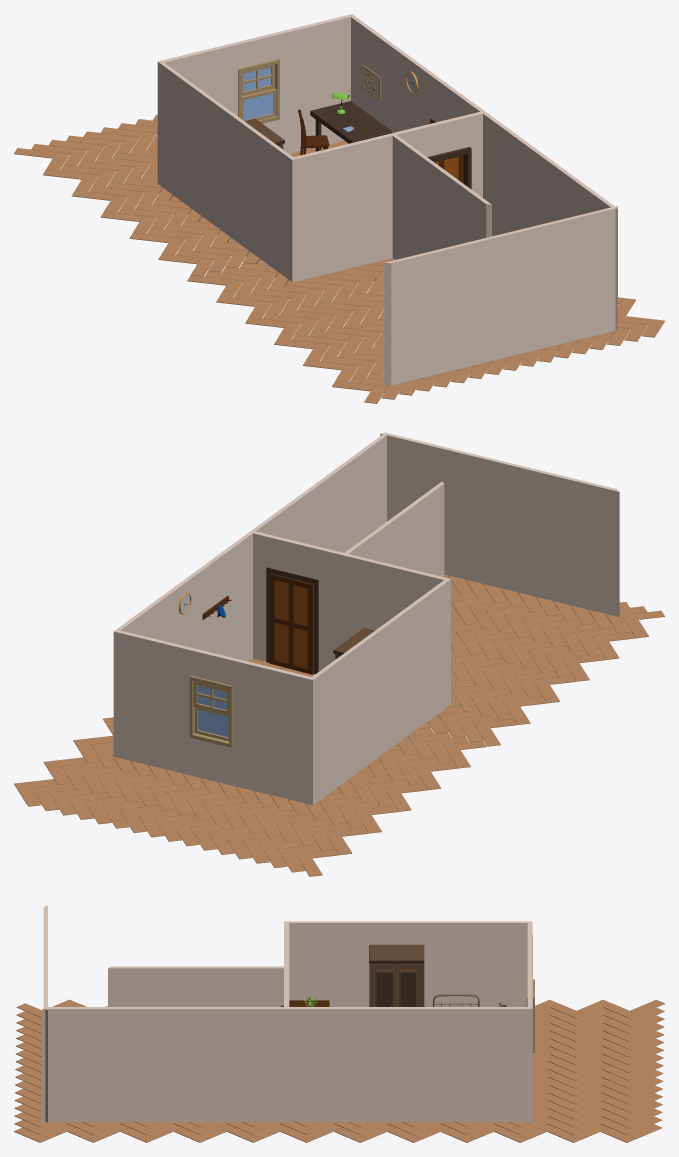
Rendered from girissahnesi2.fbx.
3 renders of one model, top to bottom at view 1: azimuth 30°, elevation 25°; view 2: azimuth 150°, elevation 25°; view 3: azimuth 270°, elevation 25°, orthographic. The views are drawn at different scales.
Visible parts, largest first — view 1: Cube.012, Cube.009, Cube.005, Cube.004, Cube.002, Cube.006, Cube.007, Cube.003, Window.001, Cube.013, Cube.027; view 2: Cube.012, Cube.009, Cube.002, Cube.005, Cube.004, Cube.003, Cube.006, Cube.007, Cube.026, Window.001, Cube.027; view 3: Cube.012, Cube.006, Cube.003, Cube.005, Cube.007, Cube.010, Cube.009, dolapsag, dolapsol, Cube.002, Cube.004.
Part boxes in pixels (box(x1,y1,x2,y2)): Cube.012: box(14, 115, 664, 403); Cube.009: box(384, 206, 617, 392); Cube.005: box(157, 61, 293, 285); Cube.004: box(292, 111, 485, 282); Cube.002: box(158, 14, 351, 153); Cube.006: box(483, 112, 617, 330); Cube.007: box(392, 135, 491, 259); Cube.003: box(351, 14, 486, 132); Window.001: box(238, 59, 279, 123); Cube.013: box(310, 101, 392, 151); Cube.027: box(427, 147, 471, 189); Cube.012: box(14, 574, 664, 876); Cube.009: box(380, 433, 619, 621); Cube.002: box(113, 630, 312, 811); Cube.005: box(312, 579, 450, 805); Cube.004: box(252, 530, 449, 671); Cube.003: box(114, 530, 252, 661); Cube.006: box(252, 432, 386, 552); Cube.007: box(344, 481, 444, 576); Cube.026: box(269, 573, 314, 674); Window.001: box(189, 676, 232, 747); Cube.027: box(266, 567, 318, 673); Cube.012: box(14, 999, 664, 1142); Cube.006: box(42, 1007, 290, 1121); Cube.003: box(284, 1007, 532, 1127); Cube.005: box(285, 921, 531, 1006); Cube.007: box(108, 966, 283, 1006); Cube.010: box(369, 944, 424, 1006); Cube.009: box(43, 905, 47, 1122); dolapsag: box(398, 968, 418, 1006); dolapsol: box(375, 968, 394, 1006); Cube.002: box(527, 921, 532, 1050); Cube.004: box(284, 921, 289, 1008).
Size of the model in its own units: 815 by 320 by 1571.
